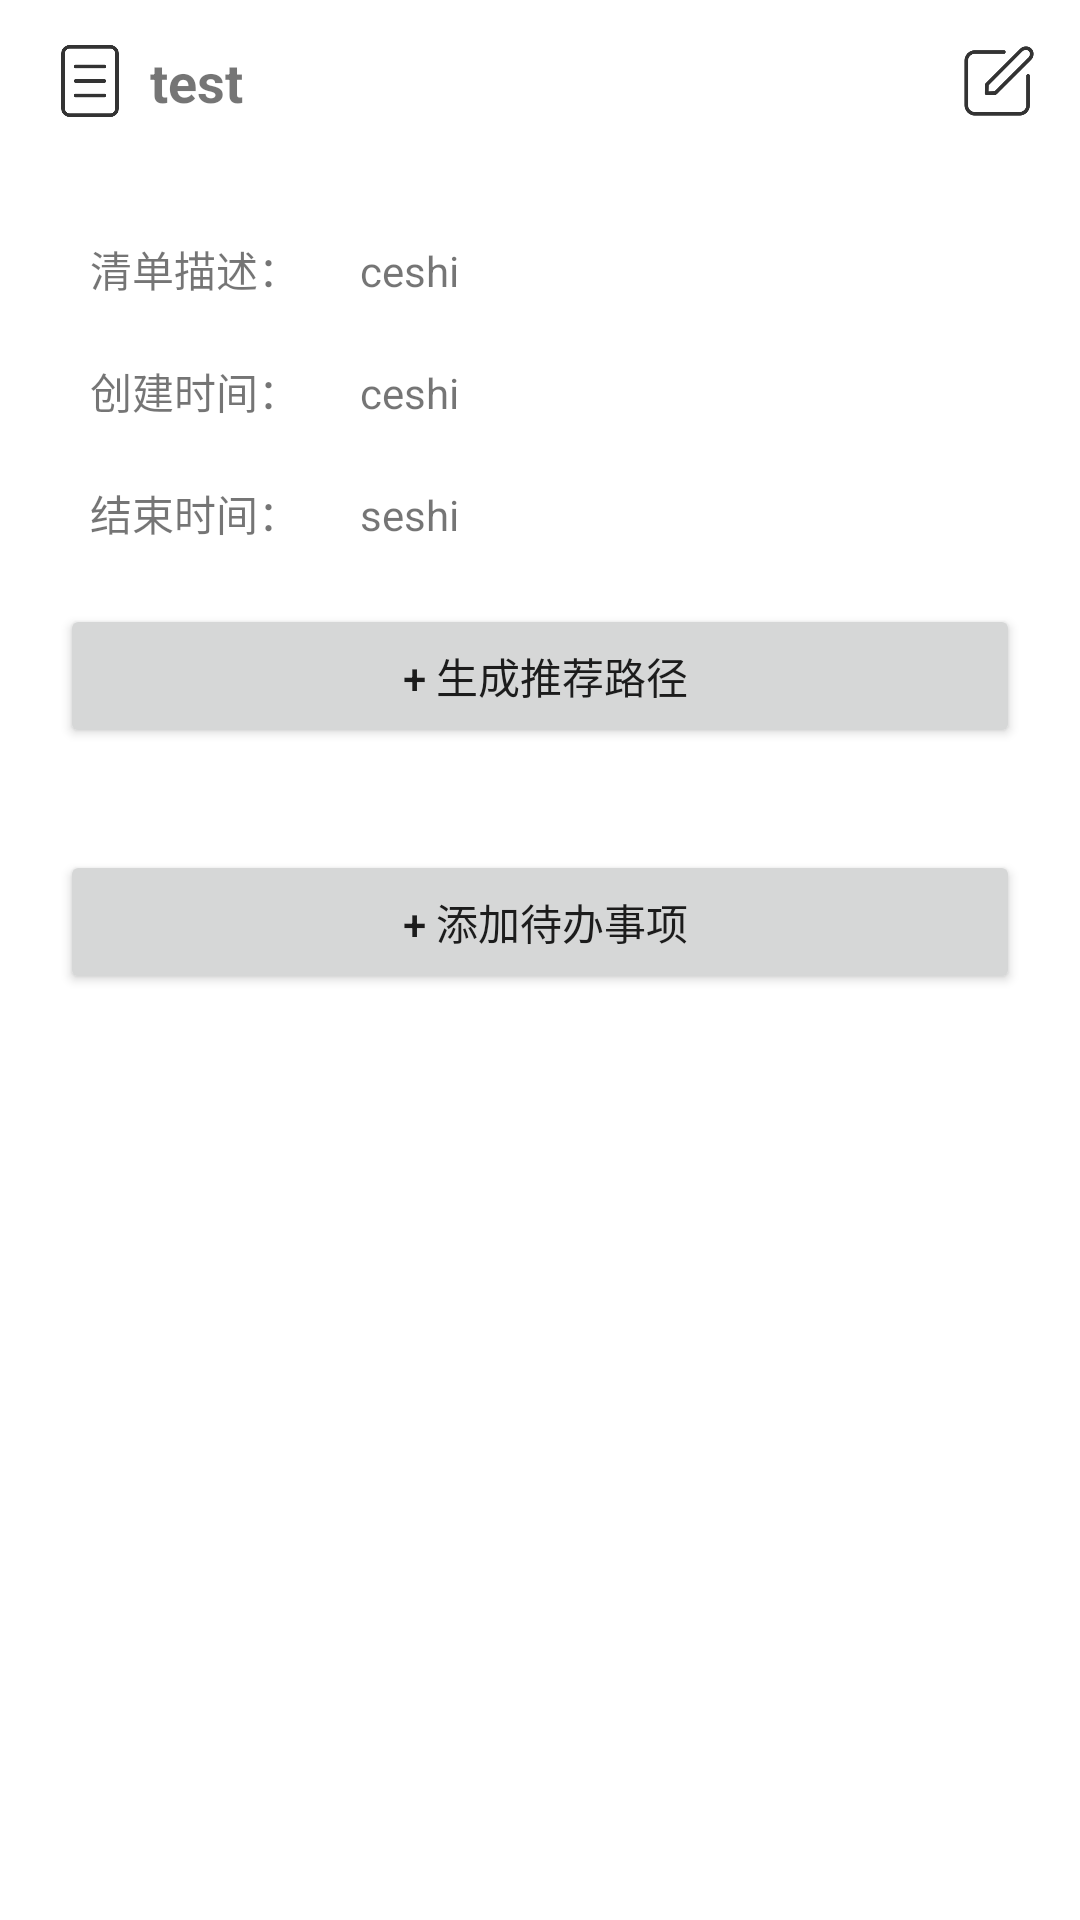

Icons on this 1080×1920 Android screen, each with its box as rect(x1, y1, x2, y2):
list: rect(61, 45, 119, 117)
